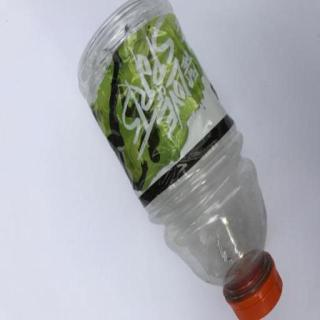Plastic-bottle: (77, 1, 284, 320)
